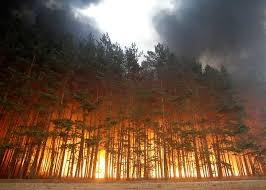fire: (93, 147, 107, 179)
